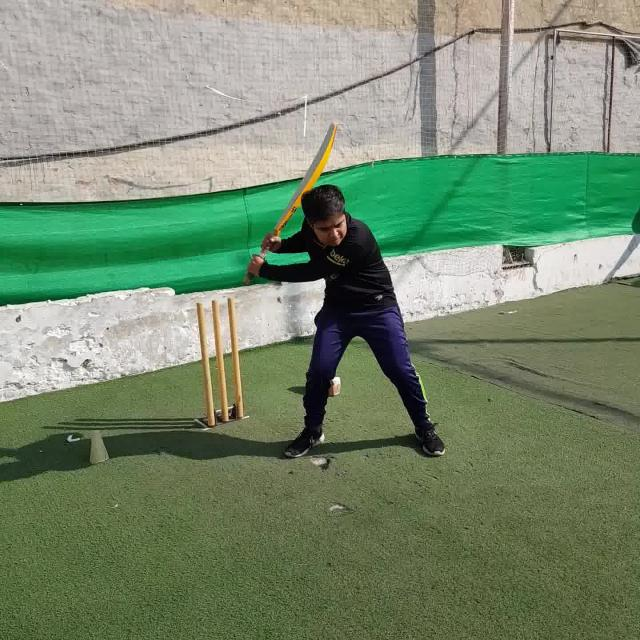bat: (247, 123, 337, 284)
